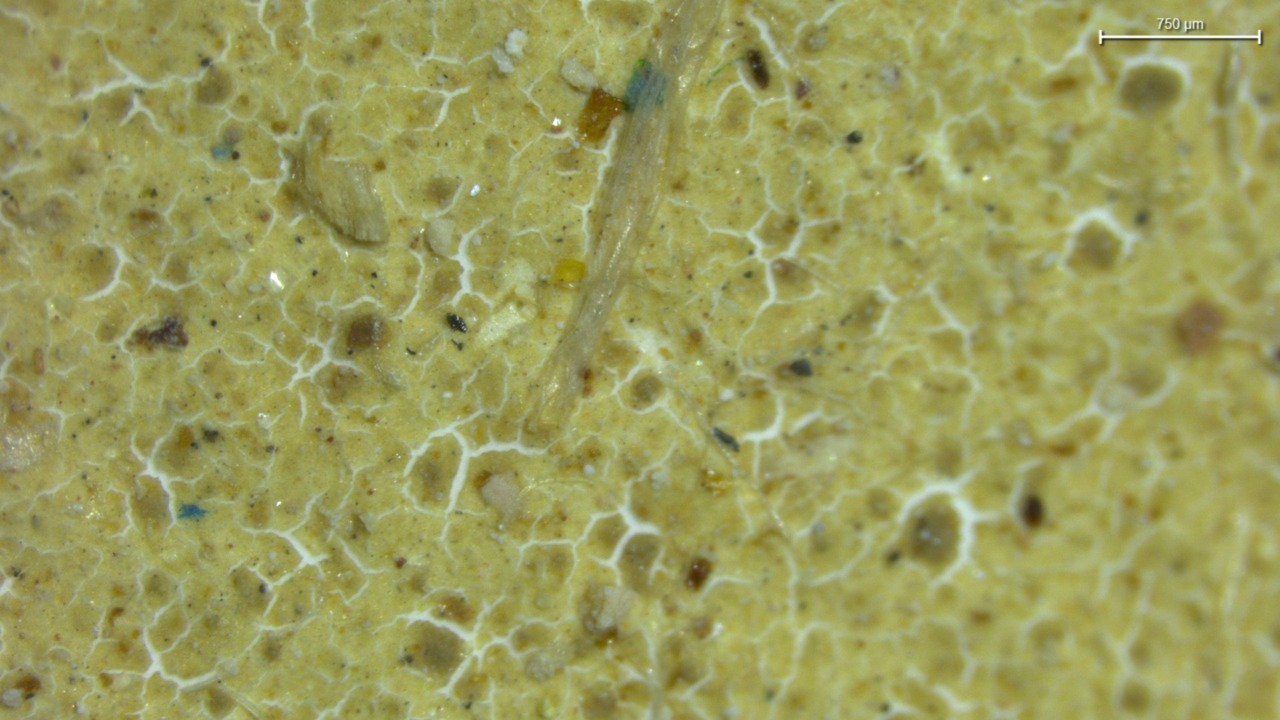microplastic_fragment: (296, 122, 388, 242)
